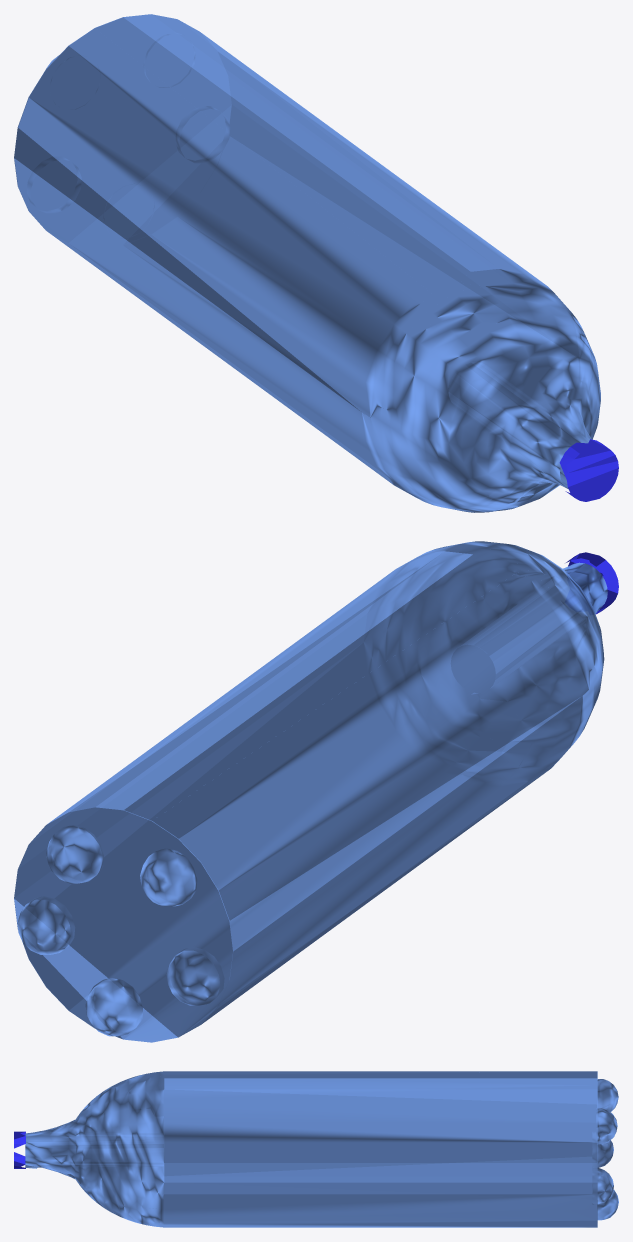
File: model_align.obj
3 views of the same model, one above another, from view 1: azimuth 30°, elevation 25°; view 2: azimuth 150°, elevation 25°; view 3: azimuth 270°, elevation 25° (orthographic). The views are drawn at different scales.
Size of the model in its own units: 0.0478 by 0.0478 by 0.1844.
